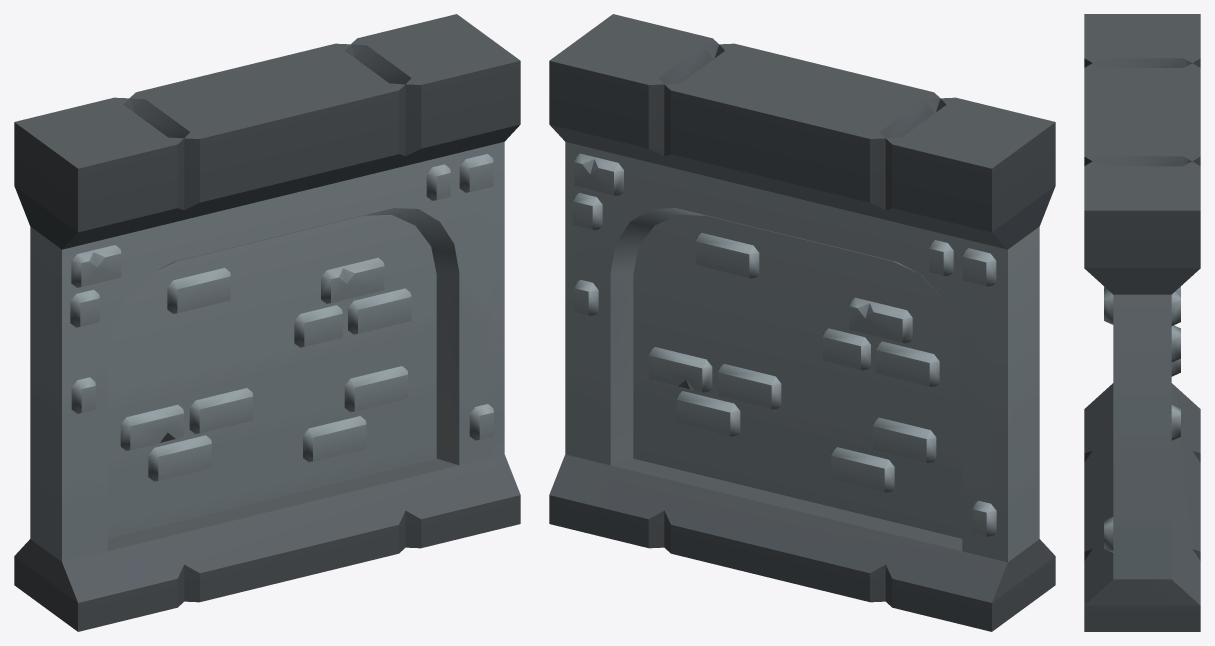
File: wall_arched.glb
The picture shows the model from 3 angles, left to right: view 1: azimuth 30°, elevation 25°; view 2: azimuth 150°, elevation 25°; view 3: azimuth 270°, elevation 25°; orthographic projection. The views are drawn at different scales.
Parts seen in each view (by area): view 1: wall_arched; view 2: wall_arched; view 3: wall_arched.
Boxes of the visible parts, <box> form: wall_arched: <box>14,14,520,631</box>; wall_arched: <box>549,14,1055,631</box>; wall_arched: <box>1084,14,1200,631</box>.
Size of the model in its own units: 4 by 4 by 1.
1 material, 1 textured.
